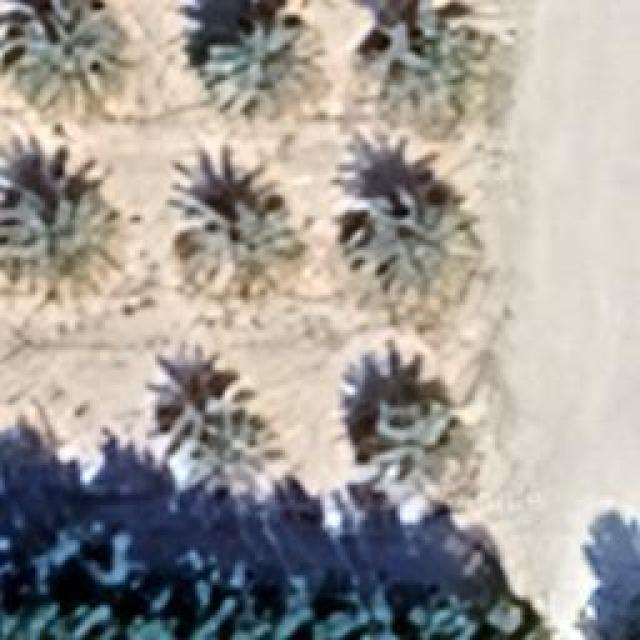PalmTree: (140, 355, 272, 500), (0, 150, 112, 295), (170, 185, 308, 300), (342, 188, 480, 298), (371, 13, 501, 116), (202, 18, 330, 122), (1, 9, 131, 109), (368, 400, 470, 495)
